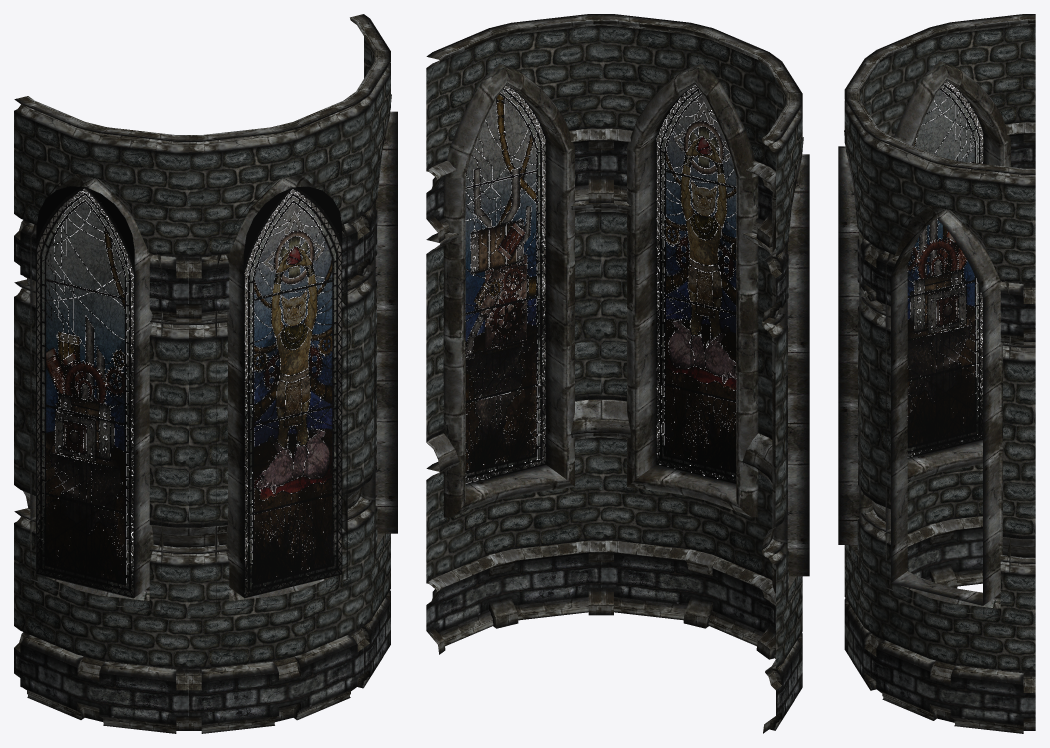
Rendered from default_ushape03.DAE.
3 renders of one model, left to right at view 1: azimuth 30°, elevation 25°; view 2: azimuth 150°, elevation 25°; view 3: azimuth 270°, elevation 25°, orthographic. The views are drawn at different scales.
Visible parts, largest first — view 1: Object078, Object082, Object083, Object072; view 2: Object078, Object083, Object082, Object072; view 3: Object078, Object083, Object082, Object072.
Part boxes in pixels (left/top/right/bottom): Object078: left=14, top=14, right=390, bottom=733; Object082: left=36, top=186, right=342, bottom=597; Object083: left=30, top=94, right=397, bottom=611; Object072: left=14, top=267, right=376, bottom=547; Object078: left=426, top=14, right=802, bottom=733; Object083: left=443, top=63, right=809, bottom=601; Object082: left=465, top=85, right=736, bottom=484; Object072: left=426, top=200, right=787, bottom=550; Object078: left=844, top=14, right=1035, bottom=733; Object083: left=838, top=60, right=1010, bottom=618; Object082: left=907, top=81, right=983, bottom=457; Object072: left=858, top=293, right=1035, bottom=557.
Bounding box in the file's own units: 8.28 × 13.01 × 4.14.
